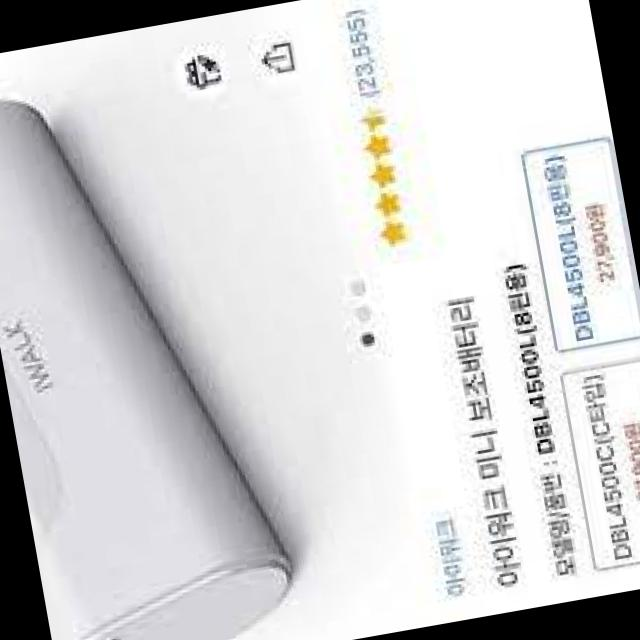power_bank: (0, 56, 310, 640)
